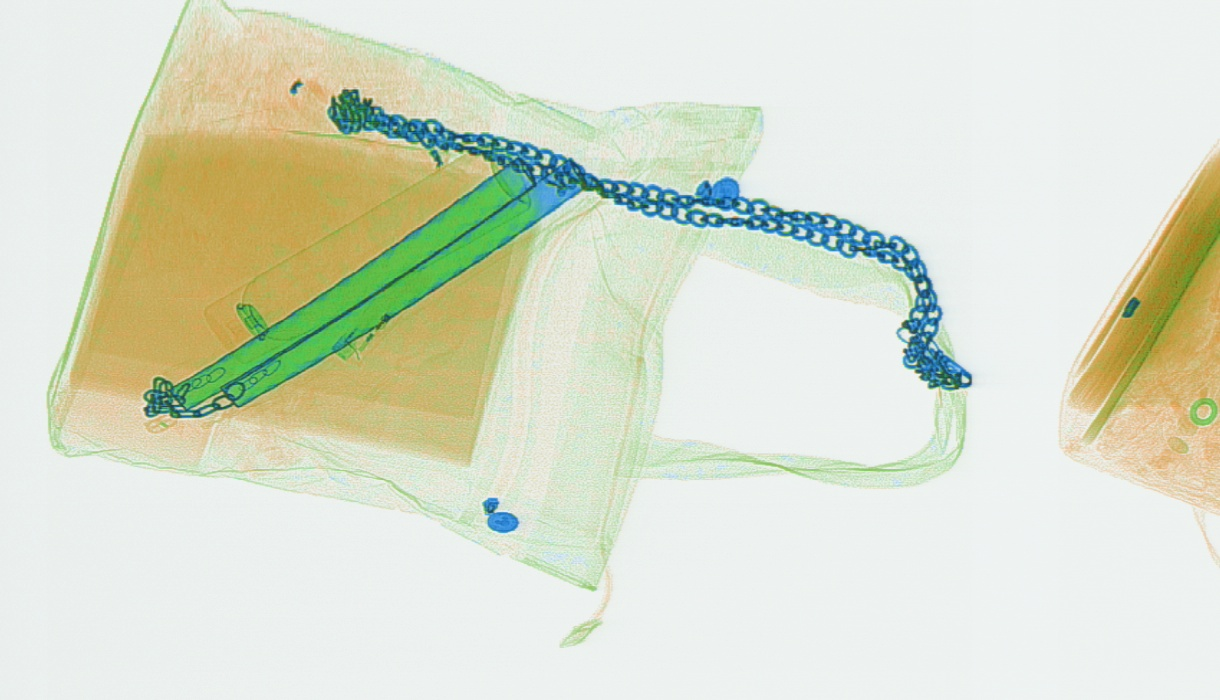pressure: (203, 146, 532, 360)
